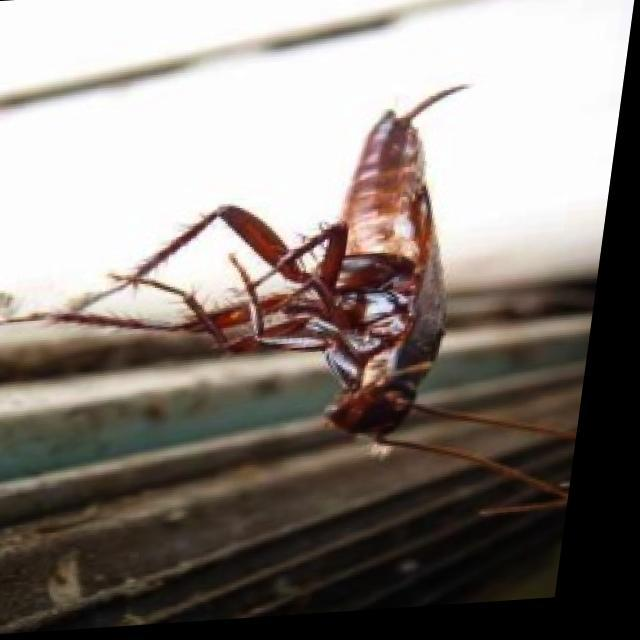cockroach: (93, 64, 481, 472)
